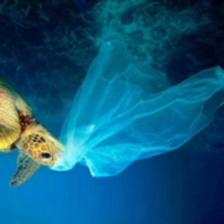plastic_bag: (47, 30, 223, 183)
